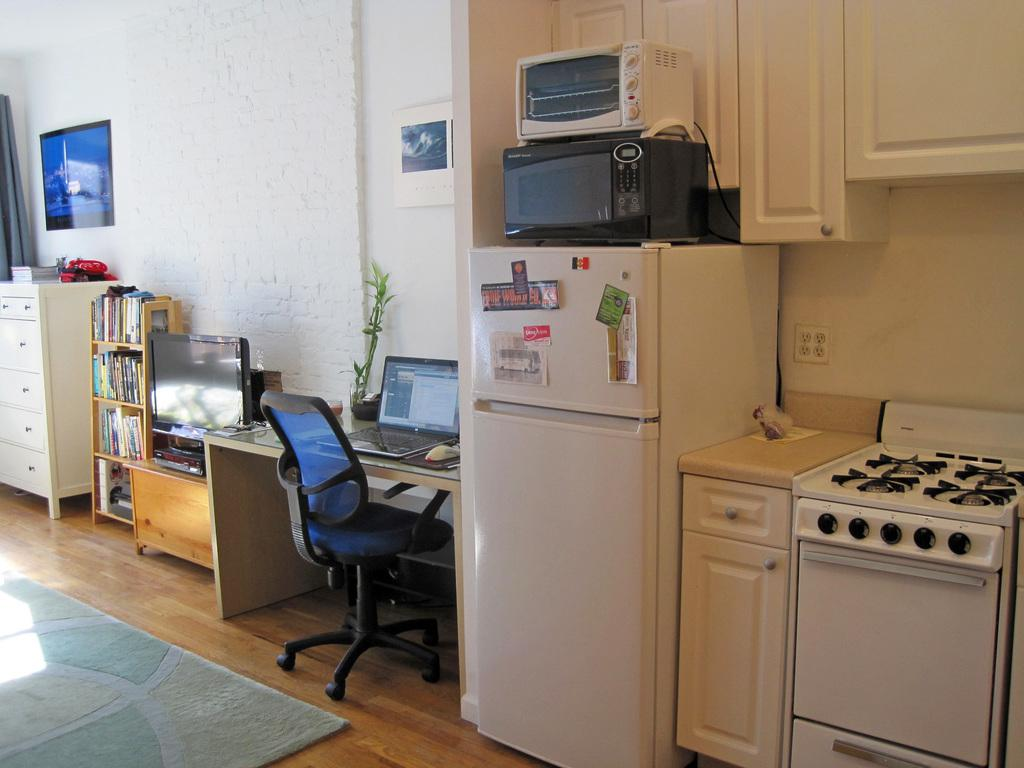cabinet_door: (733, 18, 839, 244), (690, 546, 782, 760), (686, 480, 780, 544), (2, 371, 46, 417), (0, 442, 50, 482), (2, 317, 42, 366), (4, 410, 46, 451), (0, 300, 36, 317)
handle: (808, 546, 980, 600), (474, 394, 650, 438), (836, 729, 914, 768), (721, 500, 747, 534), (758, 550, 782, 586), (817, 213, 839, 244), (20, 418, 38, 439), (22, 459, 40, 478), (19, 383, 33, 403), (16, 338, 30, 353)
